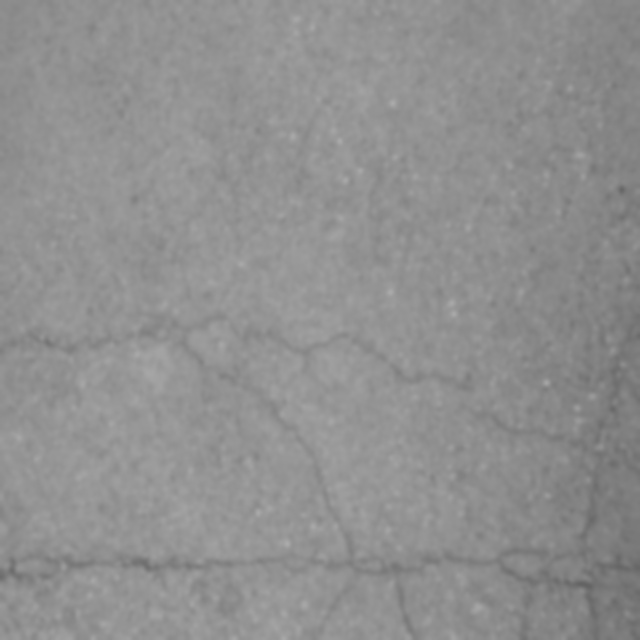SurfaceCrack: (1, 282, 639, 491)
